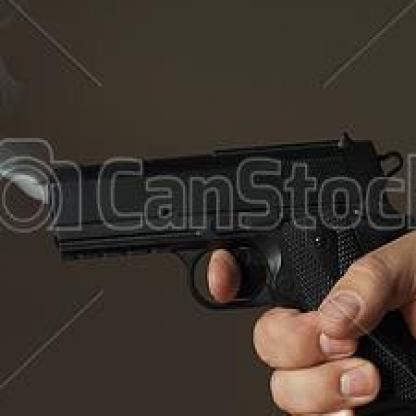gun: (41, 132, 414, 414)
